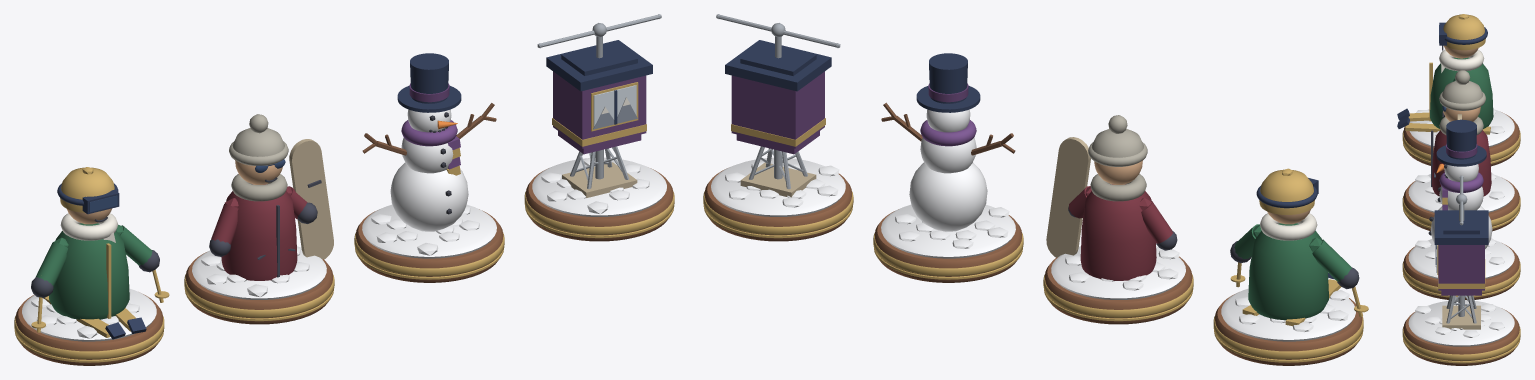
File: babuk.glb
3 renders of one model, left to right at view 1: azimuth 30°, elevation 25°; view 2: azimuth 150°, elevation 25°; view 3: azimuth 270°, elevation 25°, orthographic. The views are drawn at different scales.
Parts seen in each view (by area): view 1: Babu_snowboard, Babu_kabin, Babu_hoember, Babu_sielo; view 2: Babu_snowboard, Babu_kabin, Babu_sielo, Babu_hoember; view 3: Babu_kabin, Babu_hoember, Babu_sielo, Babu_snowboard.
Boxes of the visible parts, x1=… form: Babu_snowboard: x1=184, y1=114, x2=334, y2=324; Babu_kabin: x1=524, y1=14, x2=674, y2=241; Babu_hoember: x1=354, y1=53, x2=504, y2=282; Babu_sielo: x1=14, y1=167, x2=169, y2=365; Babu_snowboard: x1=1043, y1=115, x2=1193, y2=324; Babu_kabin: x1=703, y1=14, x2=853, y2=241; Babu_sielo: x1=1213, y1=168, x2=1368, y2=365; Babu_hoember: x1=873, y1=53, x2=1023, y2=282; Babu_kabin: x1=1402, y1=175, x2=1520, y2=365; Babu_hoember: x1=1402, y1=119, x2=1520, y2=300; Babu_sielo: x1=1397, y1=14, x2=1520, y2=166; Babu_snowboard: x1=1402, y1=70, x2=1520, y2=231.
Size of the model in its own units: 3.03 by 0.86 by 0.6394.
